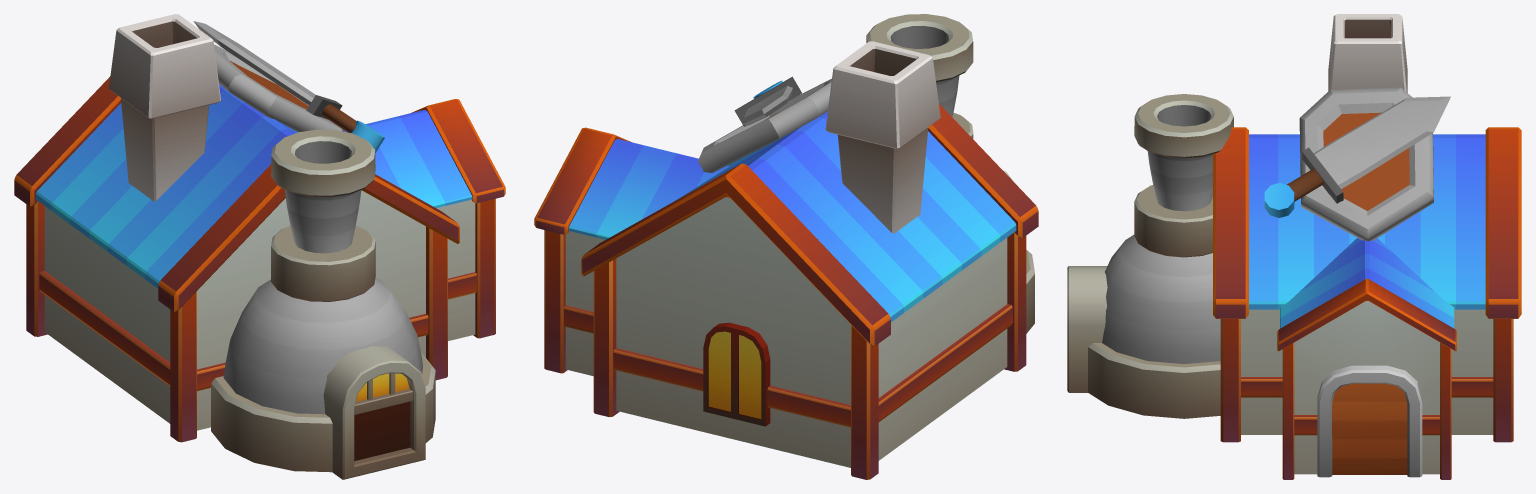
Rendered from Barrack_Sword_2.fbx.
3 views of the same model, side by side, from view 1: azimuth 30°, elevation 25°; view 2: azimuth 150°, elevation 25°; view 3: azimuth 270°, elevation 25° (orthographic). The views are drawn at different scales.
Parts seen in each view (by area): view 1: Barrack_Sword_Lv2; view 2: Barrack_Sword_Lv2; view 3: Barrack_Sword_Lv2.
Part boxes in pixels (bbox=[...]): Barrack_Sword_Lv2: bbox=[14, 14, 505, 479]; Barrack_Sword_Lv2: bbox=[534, 14, 1038, 479]; Barrack_Sword_Lv2: bbox=[1067, 14, 1521, 479].
Size of the model in its own units: 1.04 by 0.9163 by 1.18.
Materials: 1 (1 with a texture image).
